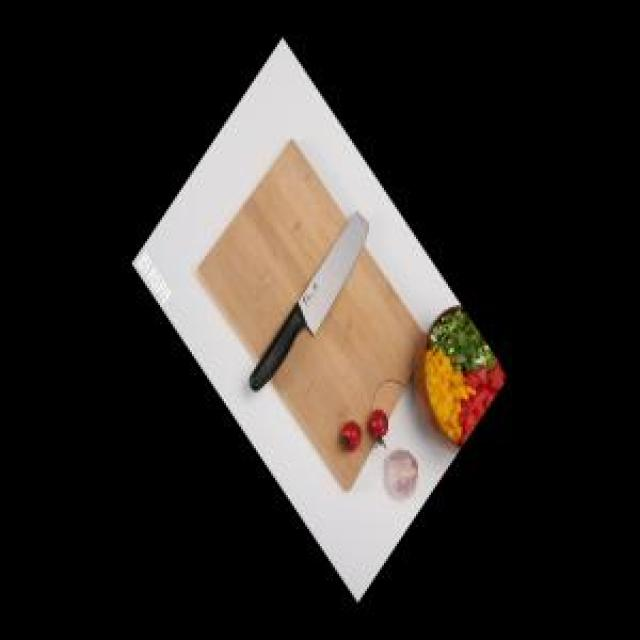knife: (243, 207, 376, 399)
